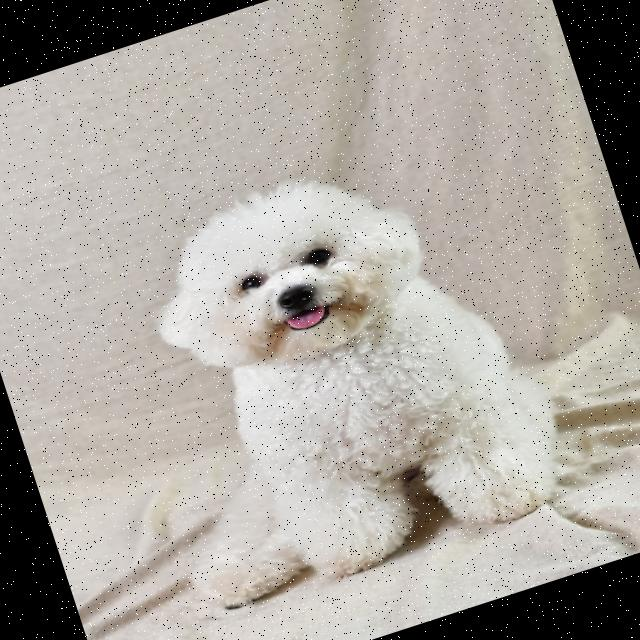Dog: (82, 96, 640, 621)
